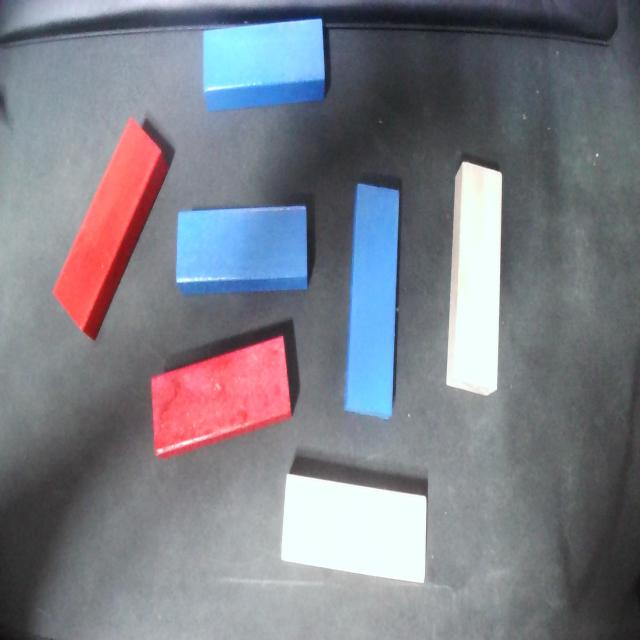blue: (343, 184, 400, 421), (172, 204, 311, 296), (197, 19, 330, 113)
red: (40, 115, 182, 343), (131, 332, 309, 463)
wood: (274, 474, 438, 584), (446, 161, 503, 398)
